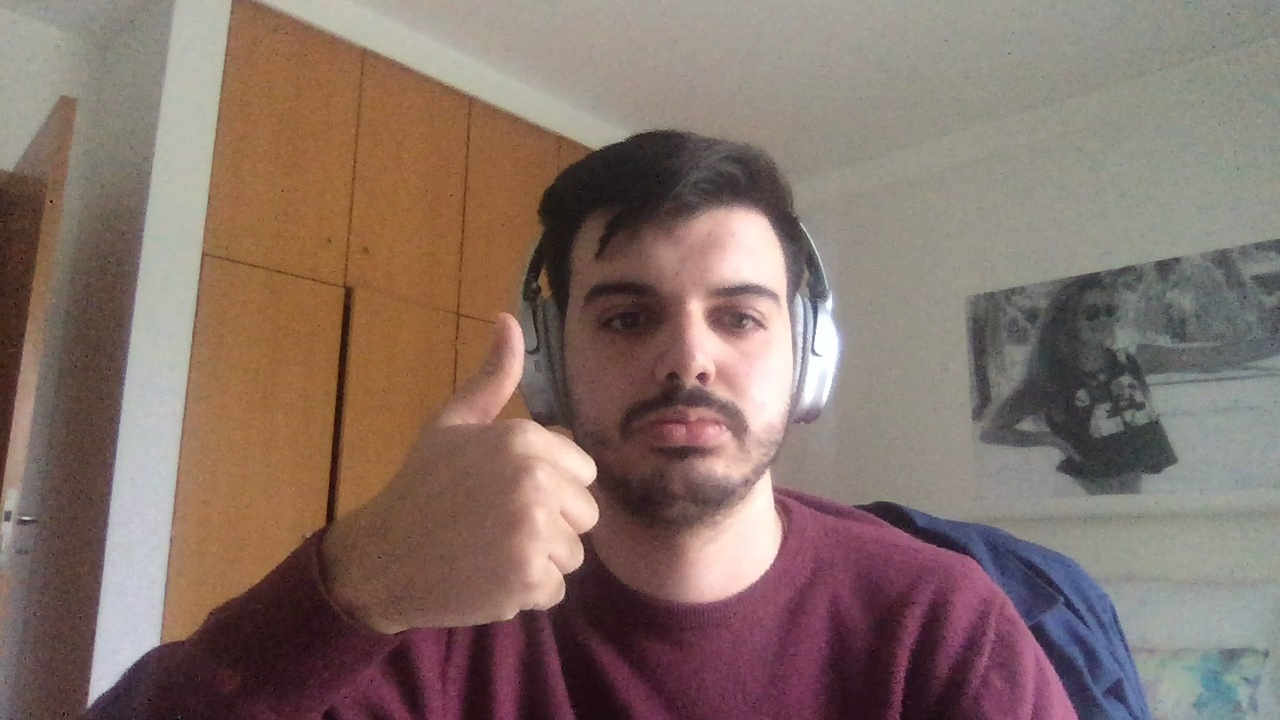ThumbsUp: (398, 311, 601, 639)
